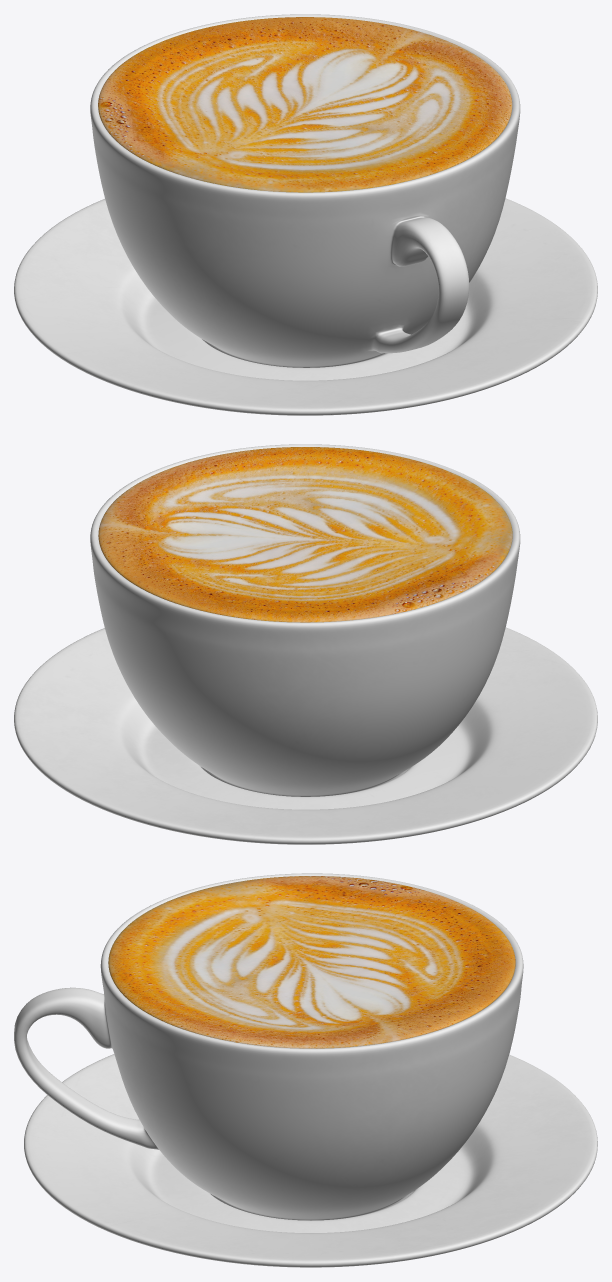
3 renders of one model, top to bottom at view 1: azimuth 30°, elevation 25°; view 2: azimuth 150°, elevation 25°; view 3: azimuth 270°, elevation 25°, orthographic.
Parts seen in each view (by area): view 1: Cup, Foam, Saucer; view 2: Cup, Foam, Saucer; view 3: Cup, Foam, Saucer.
Part boxes in pixels (x1,y1,x2,y2): Cup: (90,14,520,367); Foam: (98,17,512,192); Saucer: (14,198,597,415); Cup: (90,444,520,796); Foam: (98,447,512,622); Saucer: (14,627,597,844); Cup: (14,873,523,1220); Foam: (108,876,515,1048); Saucer: (24,1054,597,1267).
Size of the model in its own units: 0.1463 by 0.0685 by 0.1488.
2 materials, 2 textured.
